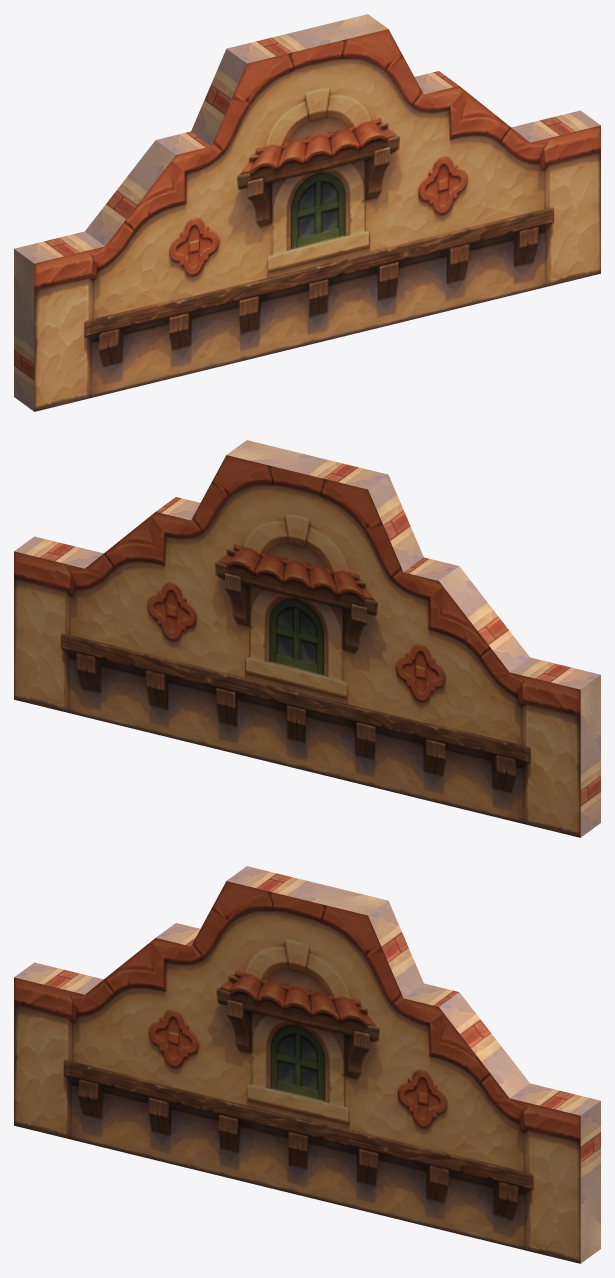
Rendered from MSN_CrestA.fbx.
3 renders of one model, top to bottom at view 1: azimuth 30°, elevation 25°; view 2: azimuth 150°, elevation 25°; view 3: azimuth 330°, elevation 25°, orthographic.
Visible parts, largest first — view 1: MSN_CrestA; view 2: MSN_CrestA; view 3: MSN_CrestA.
Part boxes in pixels (<box>): MSN_CrestA: <box>14,14,600,411</box>; MSN_CrestA: <box>14,440,600,837</box>; MSN_CrestA: <box>14,866,600,1263</box>.
Size of the model in its own units: 4 by 0.25 by 2.
Materials: 1 (1 with a texture image).
